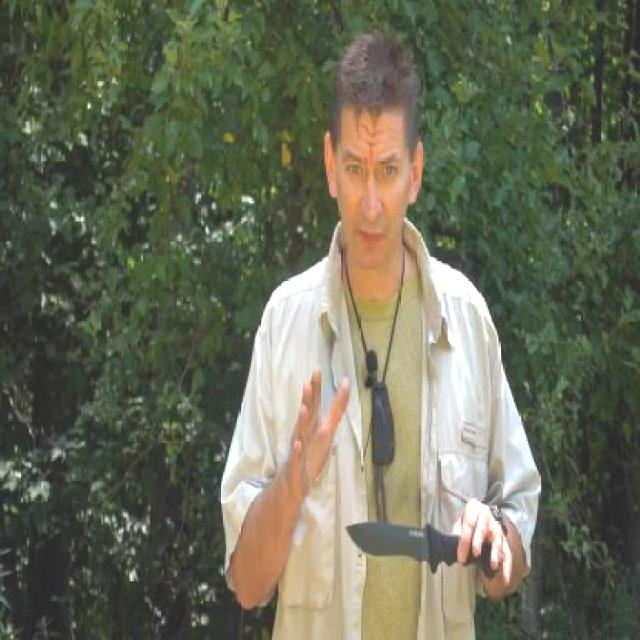knife: (340, 492, 512, 594)
